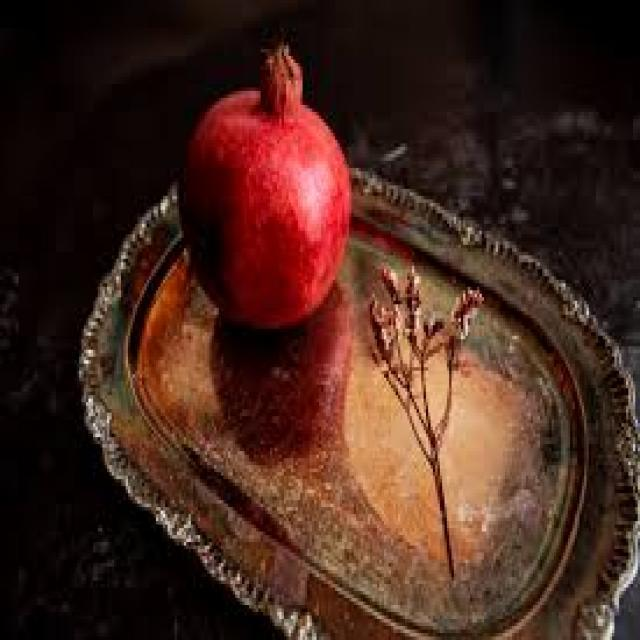Fresh Apple: (178, 103, 357, 330)
